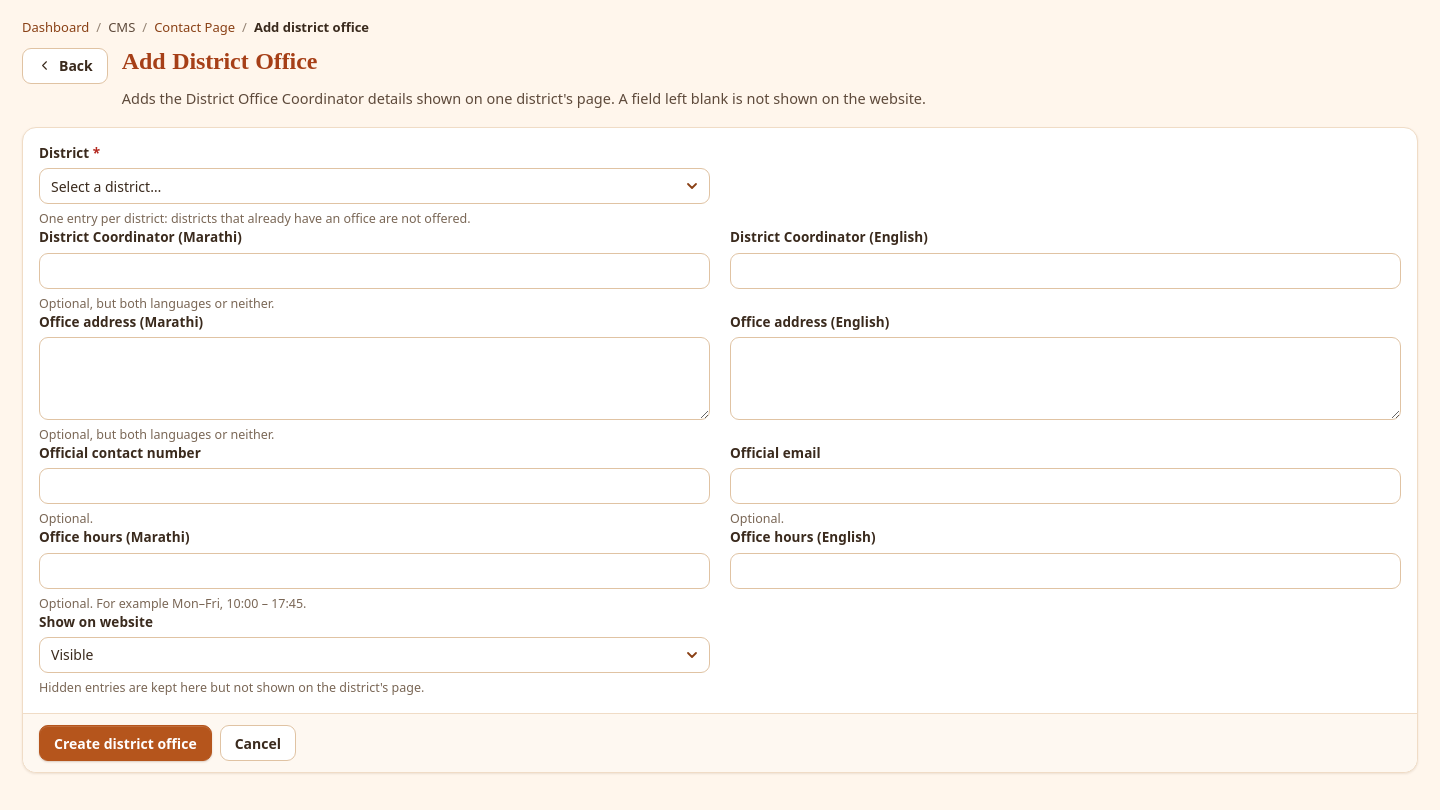
Test: district office pages › Add district office › offers only the districts with no office yet, and requires one
The image size is (1440, 810).
Step 1. Click the button "Create district office" → click(125, 743), box [39,725,212,761]
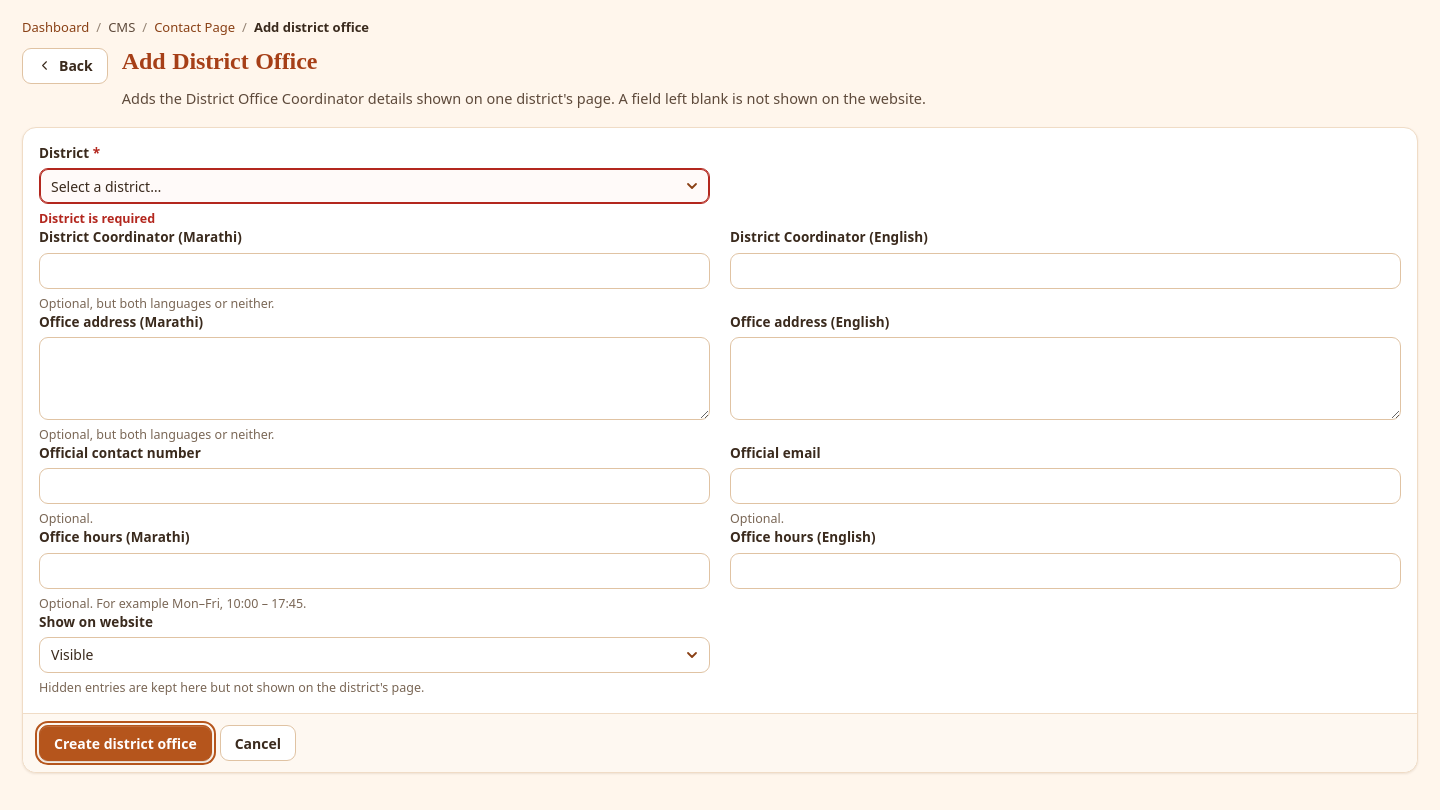
Result: the text "District is required" is shown at [39,210,155,227]
